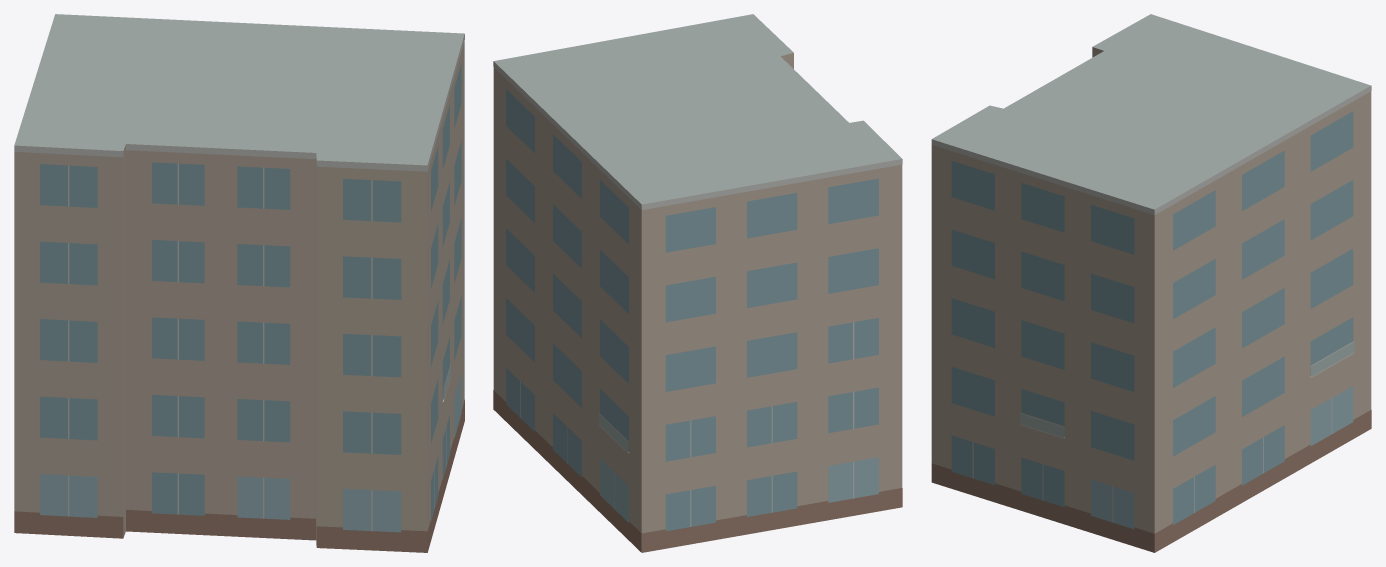
File: survey-upis-32872038.glb
The picture shows the model from 3 angles, left to right: view 1: azimuth 30°, elevation 25°; view 2: azimuth 150°, elevation 25°; view 3: azimuth 270°, elevation 25°; orthographic projection. The views are drawn at different scales.
Visible parts, largest first — view 1: survey-upis-32872038.tmp; view 2: survey-upis-32872038.tmp; view 3: survey-upis-32872038.tmp.
Boxes of the visible parts, box(x1,y1,x2,y2) form: survey-upis-32872038.tmp: box(14, 14, 464, 552); survey-upis-32872038.tmp: box(493, 14, 902, 552); survey-upis-32872038.tmp: box(931, 14, 1371, 552).
Bounding box in the file's own units: 18.66 × 15.25 × 17.72.
